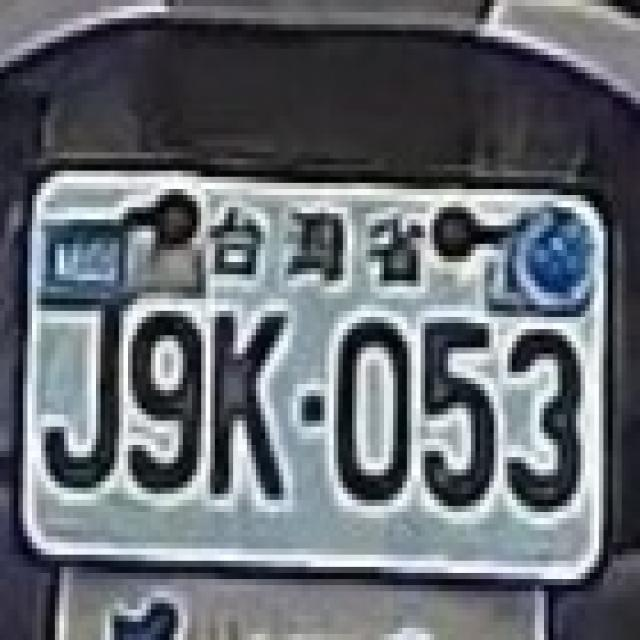license-plate: (16, 145, 610, 585)
